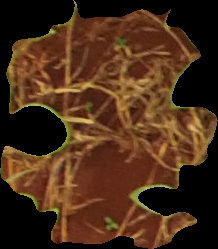soil: (2, 3, 218, 247)
